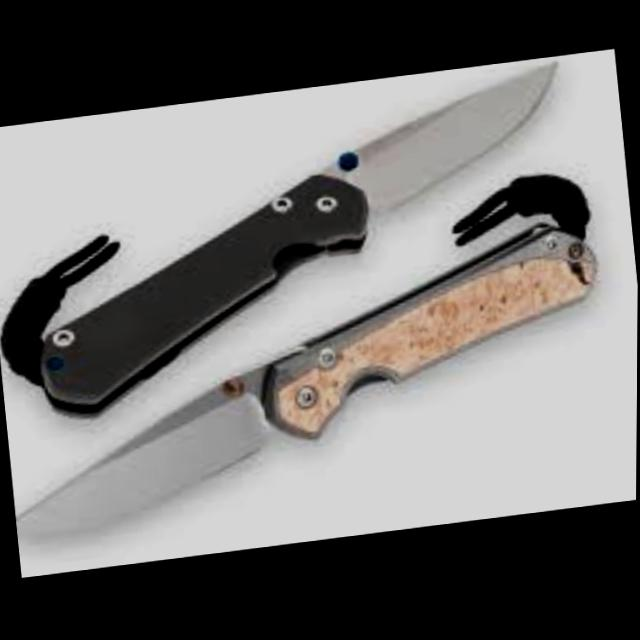Knife: (0, 169, 617, 537), (10, 61, 588, 420)
